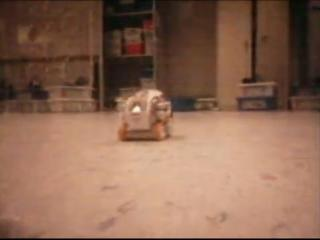cozmo: (116, 88, 174, 142)
